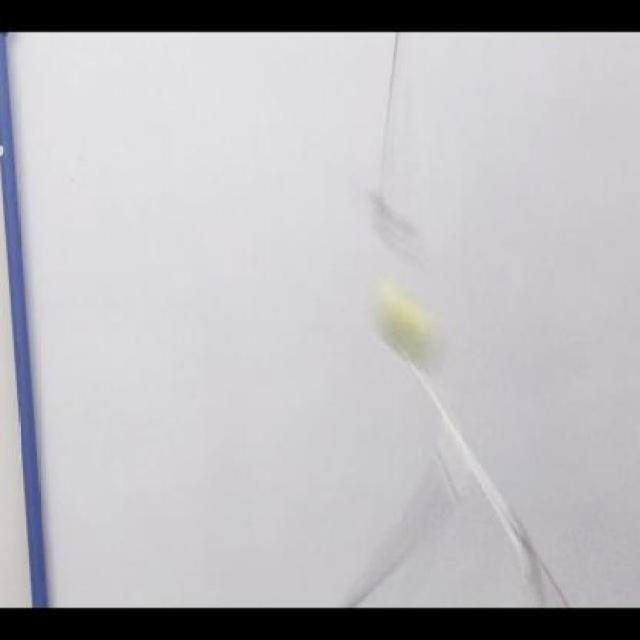baseball: (368, 281, 441, 374)
